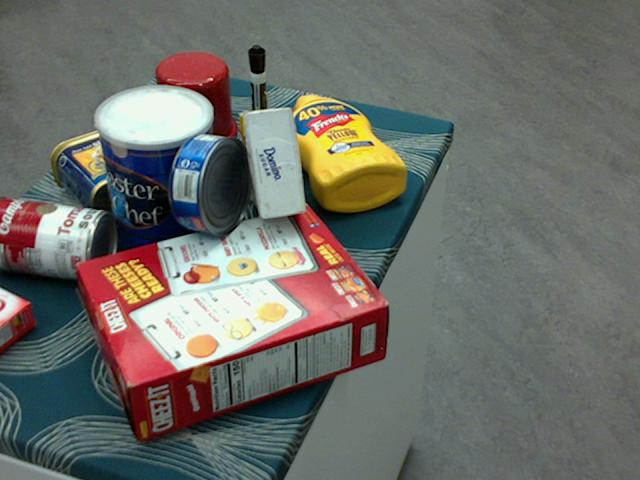cracker_box: (77, 203, 388, 440)
gelatin_box: (0, 286, 37, 353)
large_marker: (248, 44, 267, 148)
master_chef_can: (94, 87, 218, 271)
mug: (154, 52, 236, 152)
mustard_bottle: (283, 93, 406, 211)
potted_meat_can: (50, 121, 178, 220)
sugar_box: (236, 108, 305, 219)
tomato_soup_can: (0, 193, 116, 282)
tuna_fish_can: (168, 132, 251, 234)
